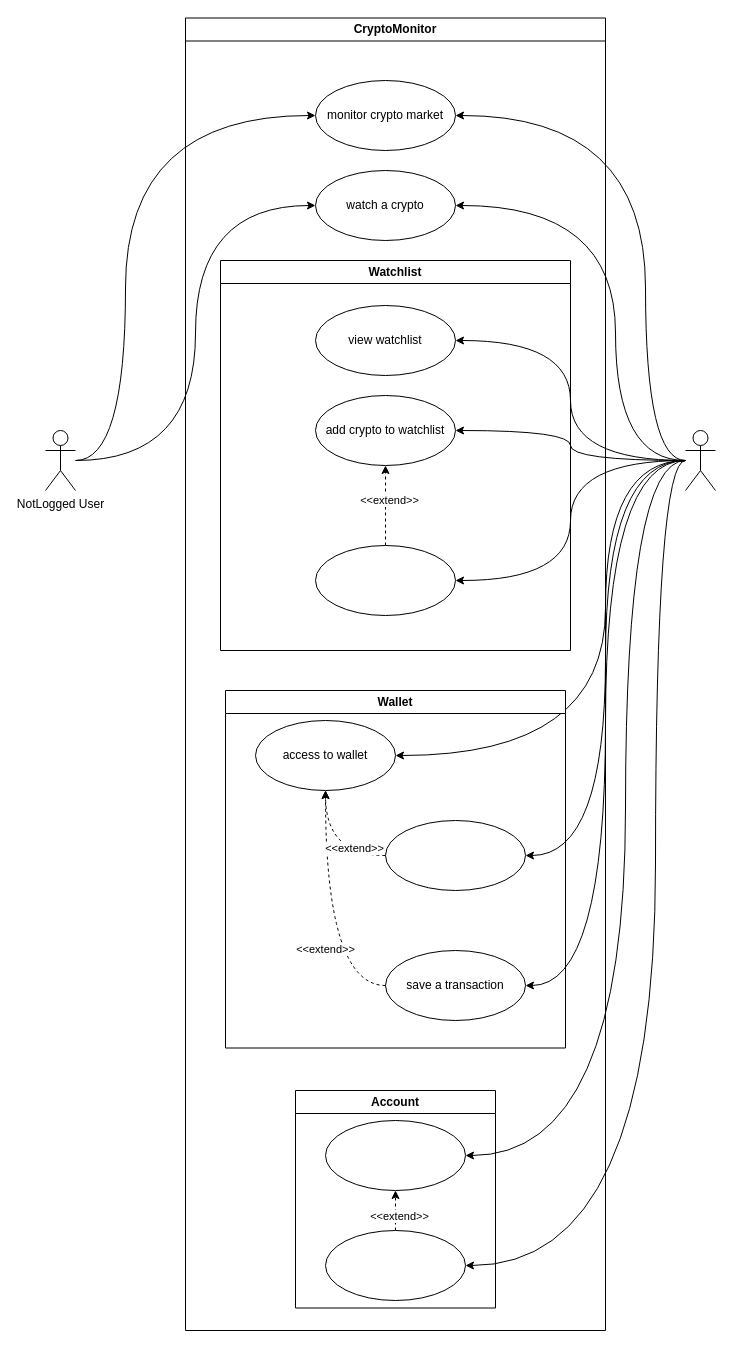
Image size: 752x1348. Some labels were removed from this diagram. Each missing label, with the box of its shape:
edit account: (324, 1230, 466, 1300)
Logged User: (684, 430, 716, 490)
remove crypto from watchlist: (314, 544, 456, 616)
see wallet history: (384, 820, 526, 890)
view account: (324, 1120, 466, 1190)
